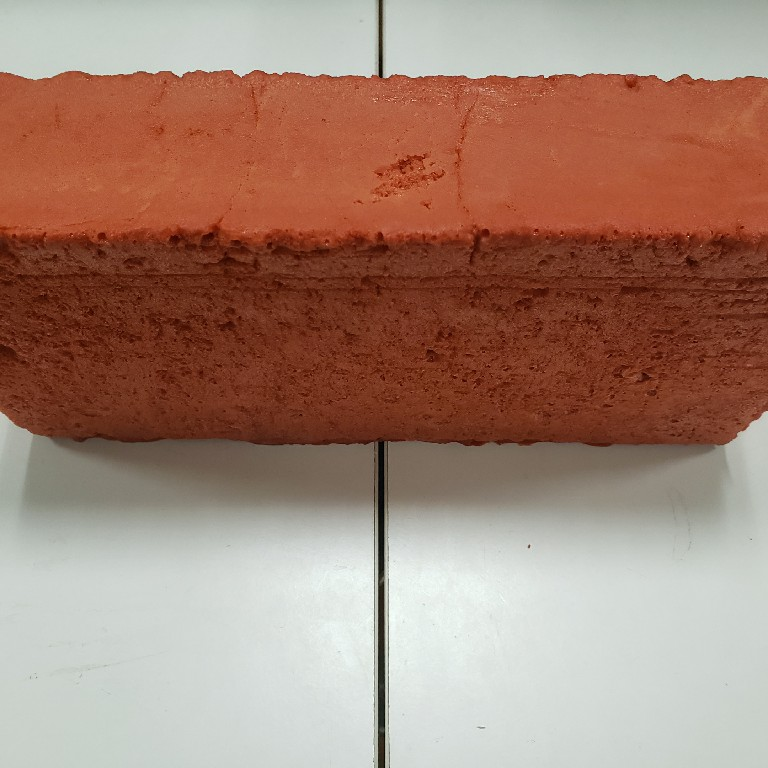brick: (1, 63, 768, 457)
